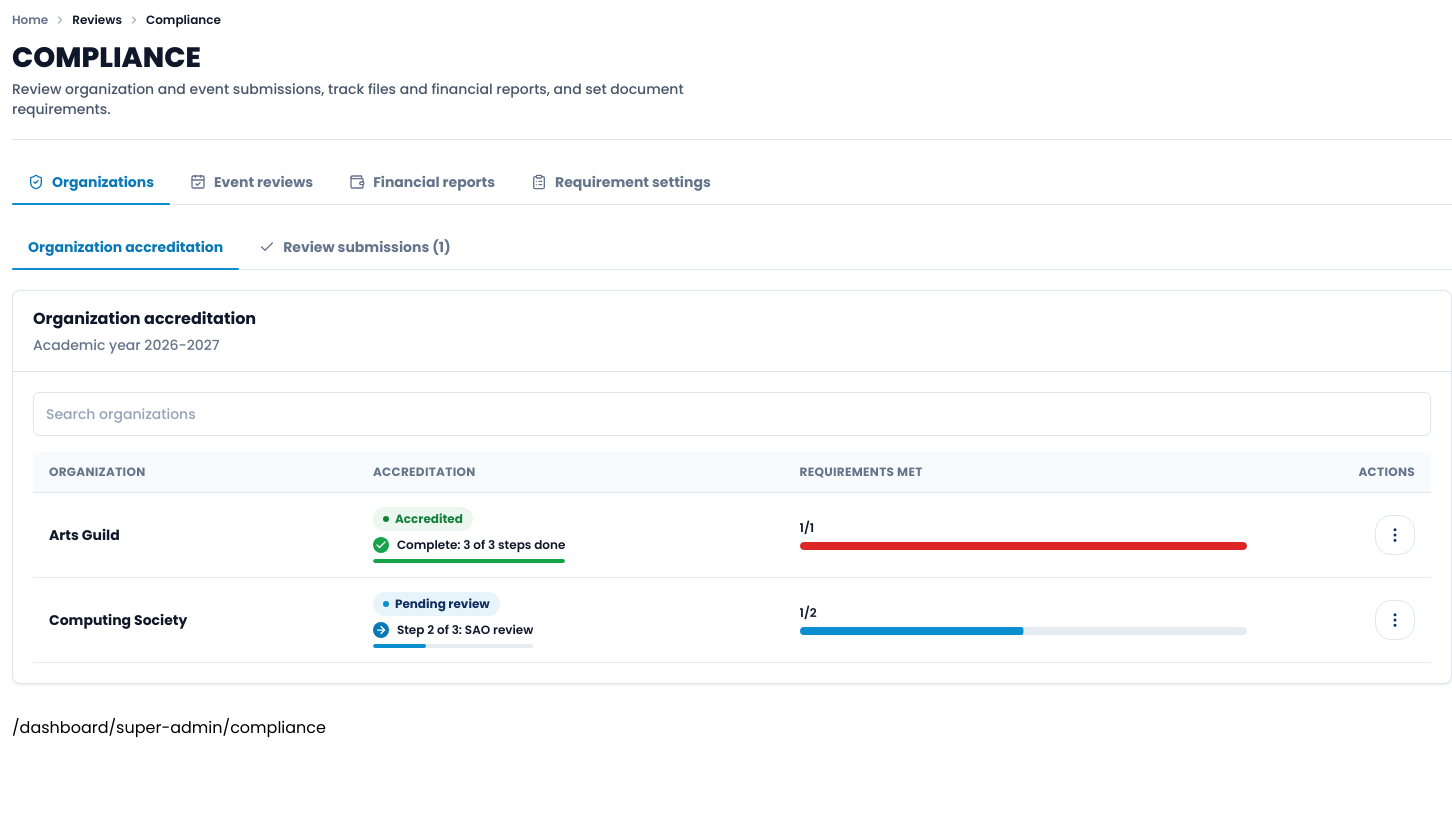
Scenario: SaoCompliancePage › moves between tabs with the arrow keys
Press ArrowRight in the tab "Organization accreditation", box top-left (12, 225), bottom-right (239, 269)
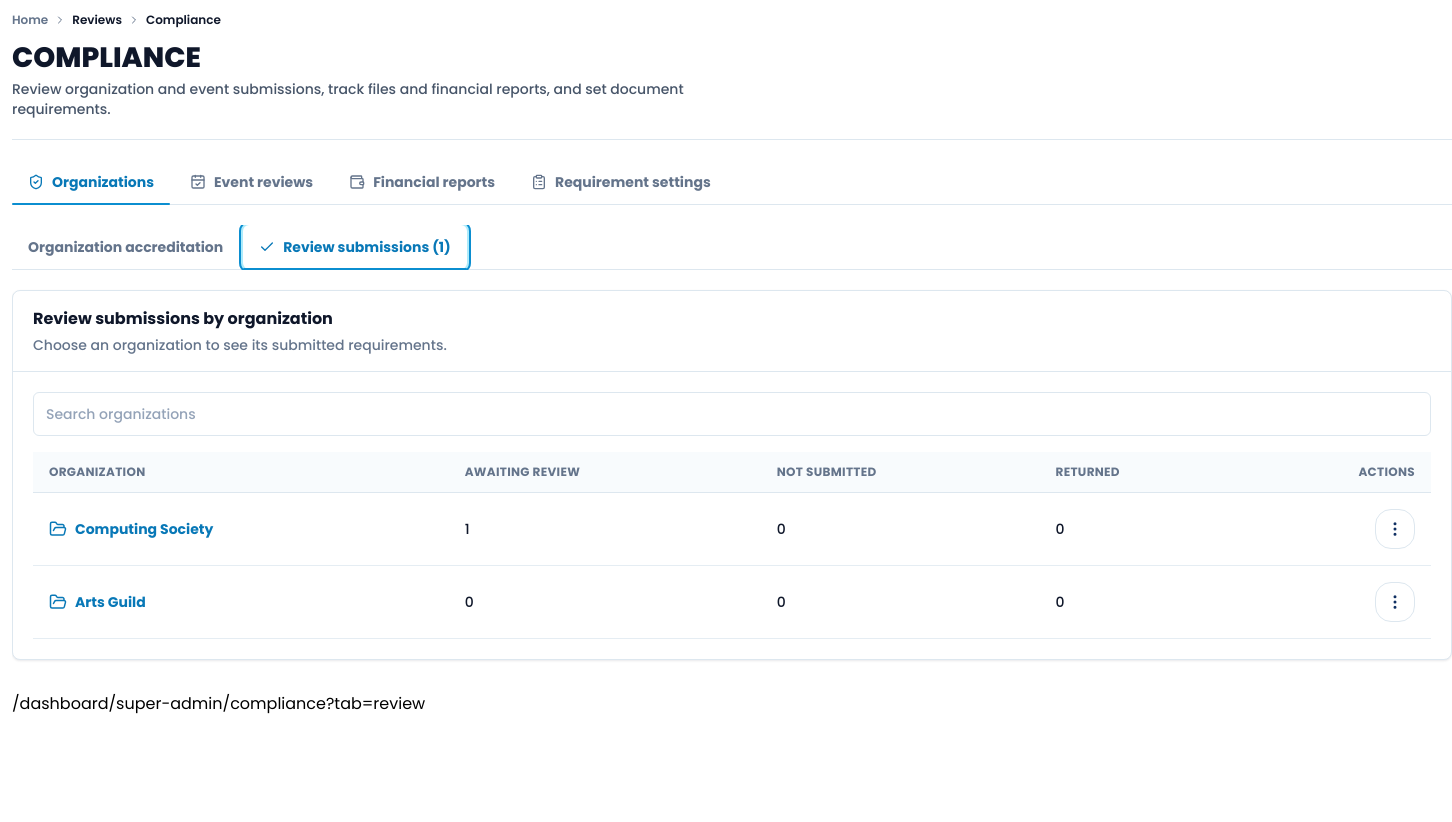
Result: the text with test id "search" shows "?tab=review" at top-left (326, 692), bottom-right (425, 715)
Click the button "Computing Society": (131,529) top-left (49, 507), bottom-right (213, 551)
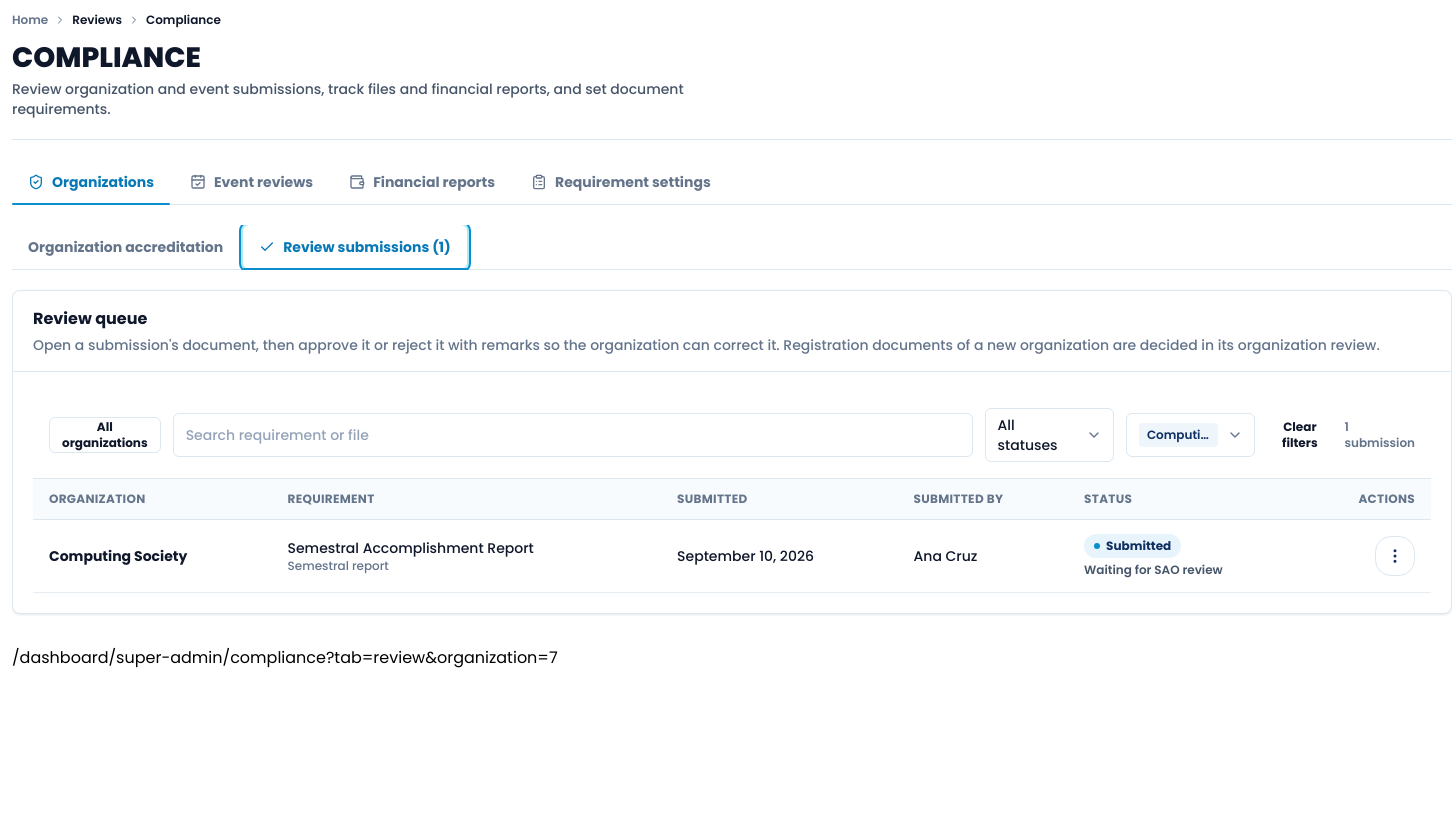
Result: the text "Semestral Accomplishment Report" is shown at top-left (288, 538), bottom-right (534, 558)
